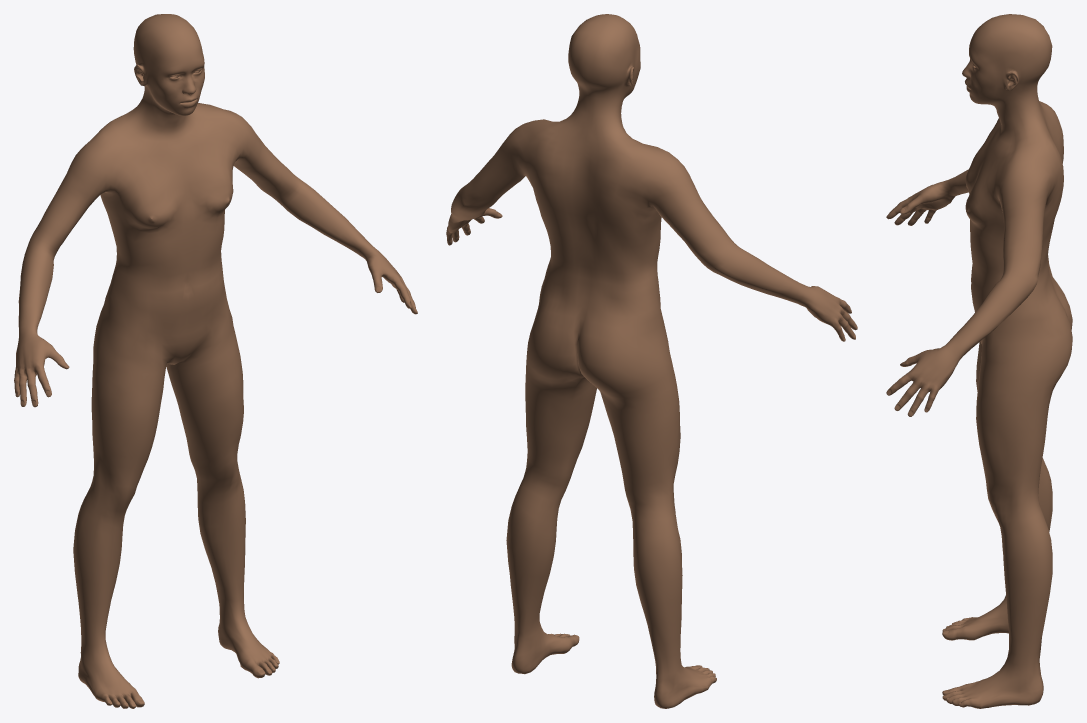
File: notext.fbx
3 renders of one model, left to right at view 1: azimuth 30°, elevation 25°; view 2: azimuth 150°, elevation 25°; view 3: azimuth 270°, elevation 25°, orthographic.
Visible parts, largest first — view 1: notextMesh; view 2: notextMesh; view 3: notextMesh.
Part boxes in pixels (<box>): notextMesh: <box>14,14,417,708</box>; notextMesh: <box>446,14,857,708</box>; notextMesh: <box>886,14,1072,708</box>.
Bounding box in the file's own units: 10.52 × 16.59 × 4.3.
